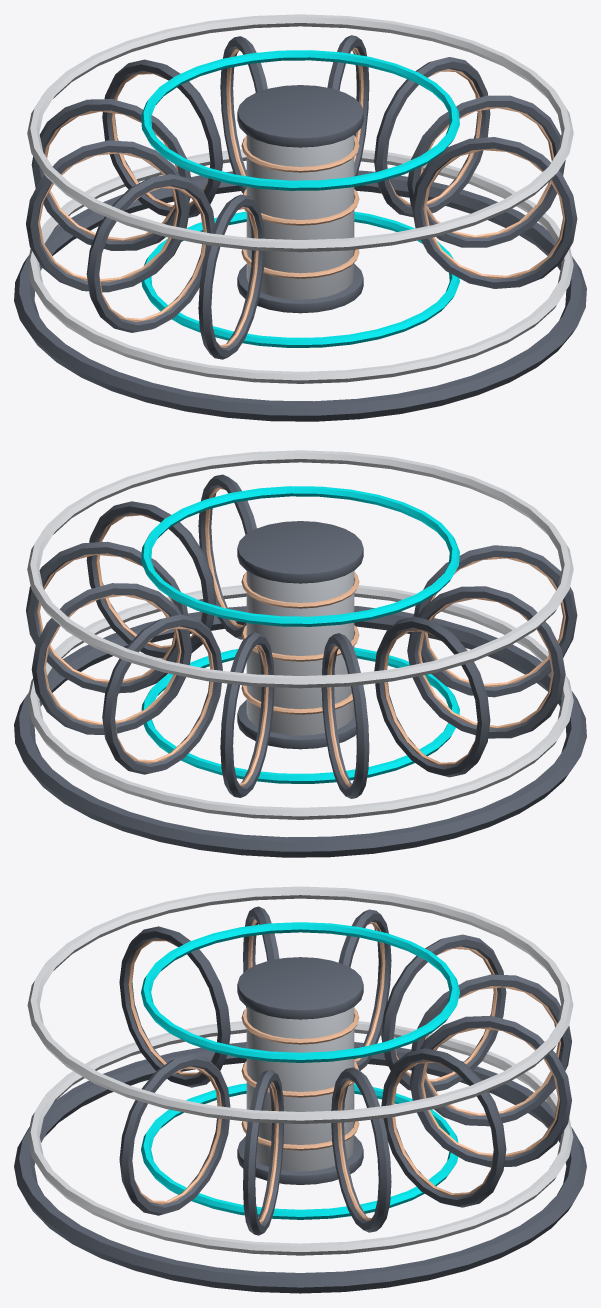
File: tokamak_vessel.glb
3 renders of one model, top to bottom at view 1: azimuth 30°, elevation 25°; view 2: azimuth 150°, elevation 25°; view 3: azimuth 270°, elevation 25°, orthographic.
Visible parts, largest first — view 1: Torus; view 2: Torus; view 3: Torus.
Boxes of the visible parts, <box> form: Torus: <box>14,14,586,421</box>; Torus: <box>14,450,586,857</box>; Torus: <box>14,886,586,1293</box>.
Size of the model in its own units: 12.24 by 4.51 by 12.24.
